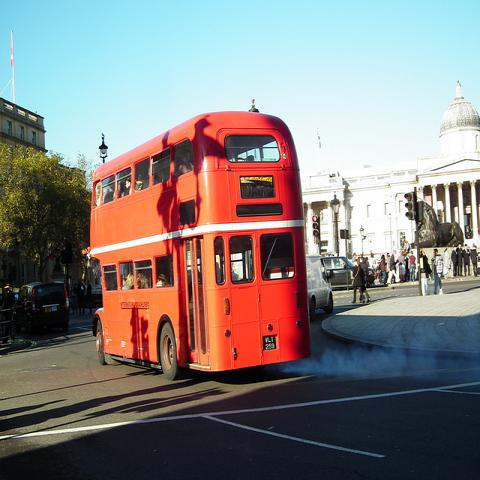bus: (86, 112, 313, 386)
car: (14, 282, 70, 335), (323, 257, 375, 287), (307, 276, 335, 318)
